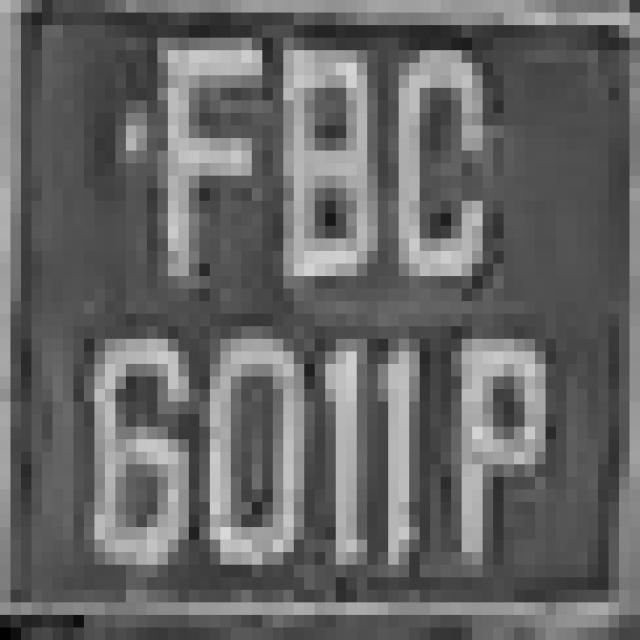0: (178, 314, 294, 590)
1: (262, 301, 368, 590), (367, 264, 441, 602)
6: (84, 251, 189, 577)
B: (242, 25, 388, 364)
C: (378, 25, 493, 301)
F: (136, 0, 262, 301)
P: (441, 288, 566, 628)
